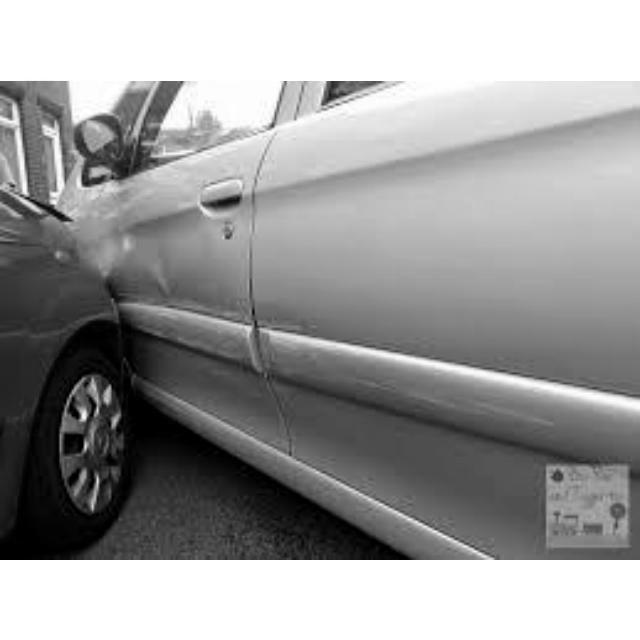doorouter-dent: (111, 172, 259, 443)
